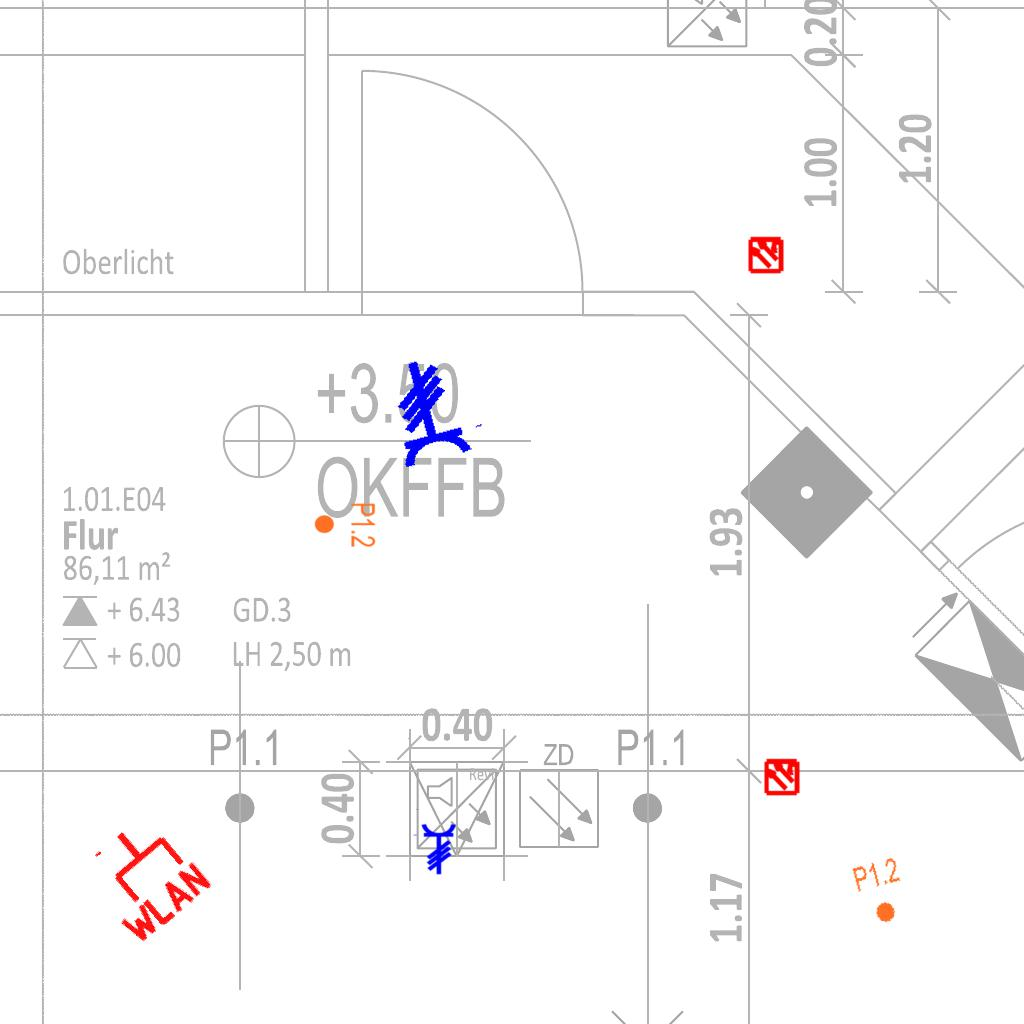CEE_Drehstrom_Steckdose_16_32_A: (377, 347, 491, 471), (412, 823, 457, 875)
Downlight_LED_Einbauleuchten_Flur: (850, 855, 912, 929), (313, 502, 377, 548)
OT_Multisensormelder_(Kombination_RMO_WMD): (754, 748, 810, 804), (738, 226, 794, 282)
WLAN: (69, 803, 218, 951)
